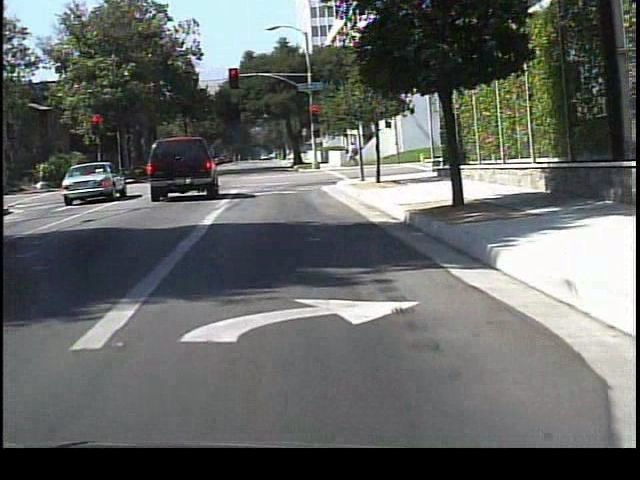person: (343, 142, 360, 172)
